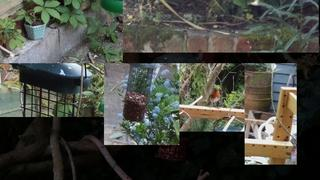robin: (206, 87, 221, 108)
